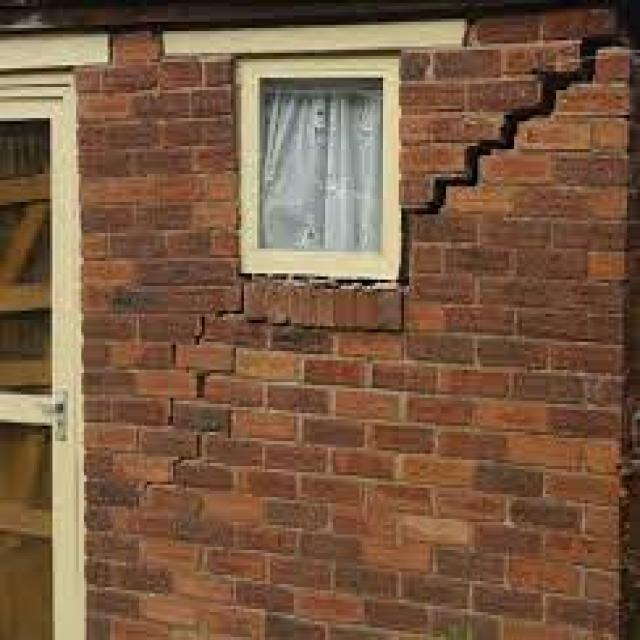Crack: (399, 6, 624, 280), (139, 276, 241, 491)
